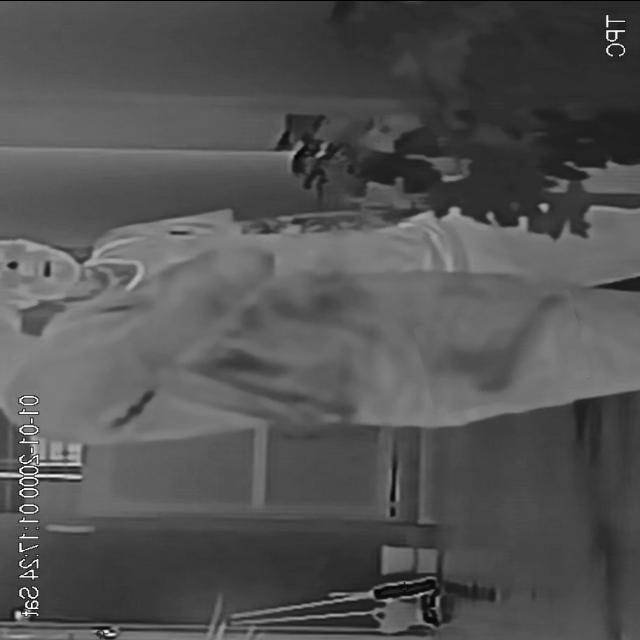Weapon: (418, 297, 588, 407)
